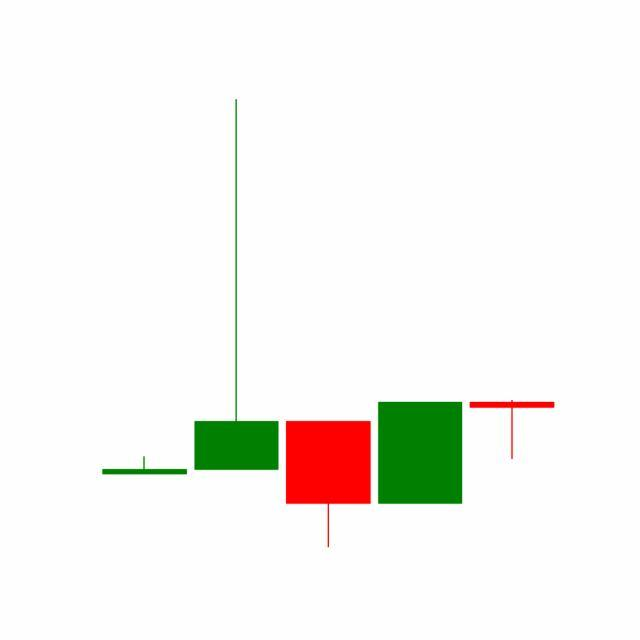Dragonfly Doji: (466, 400, 559, 461)
